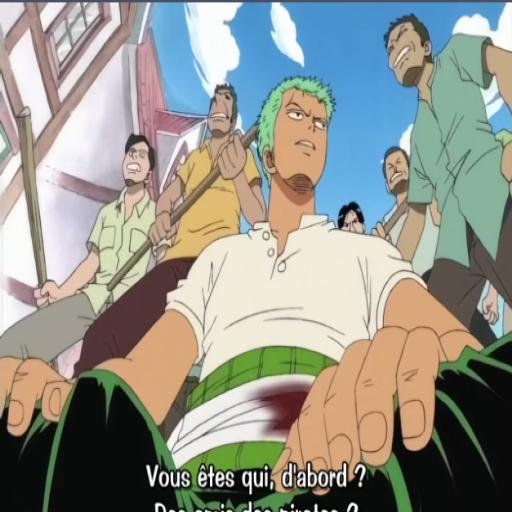Zoro: (101, 67, 490, 512)
